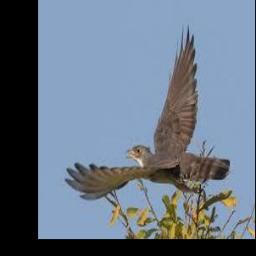Cuckoo: (65, 23, 231, 198)
